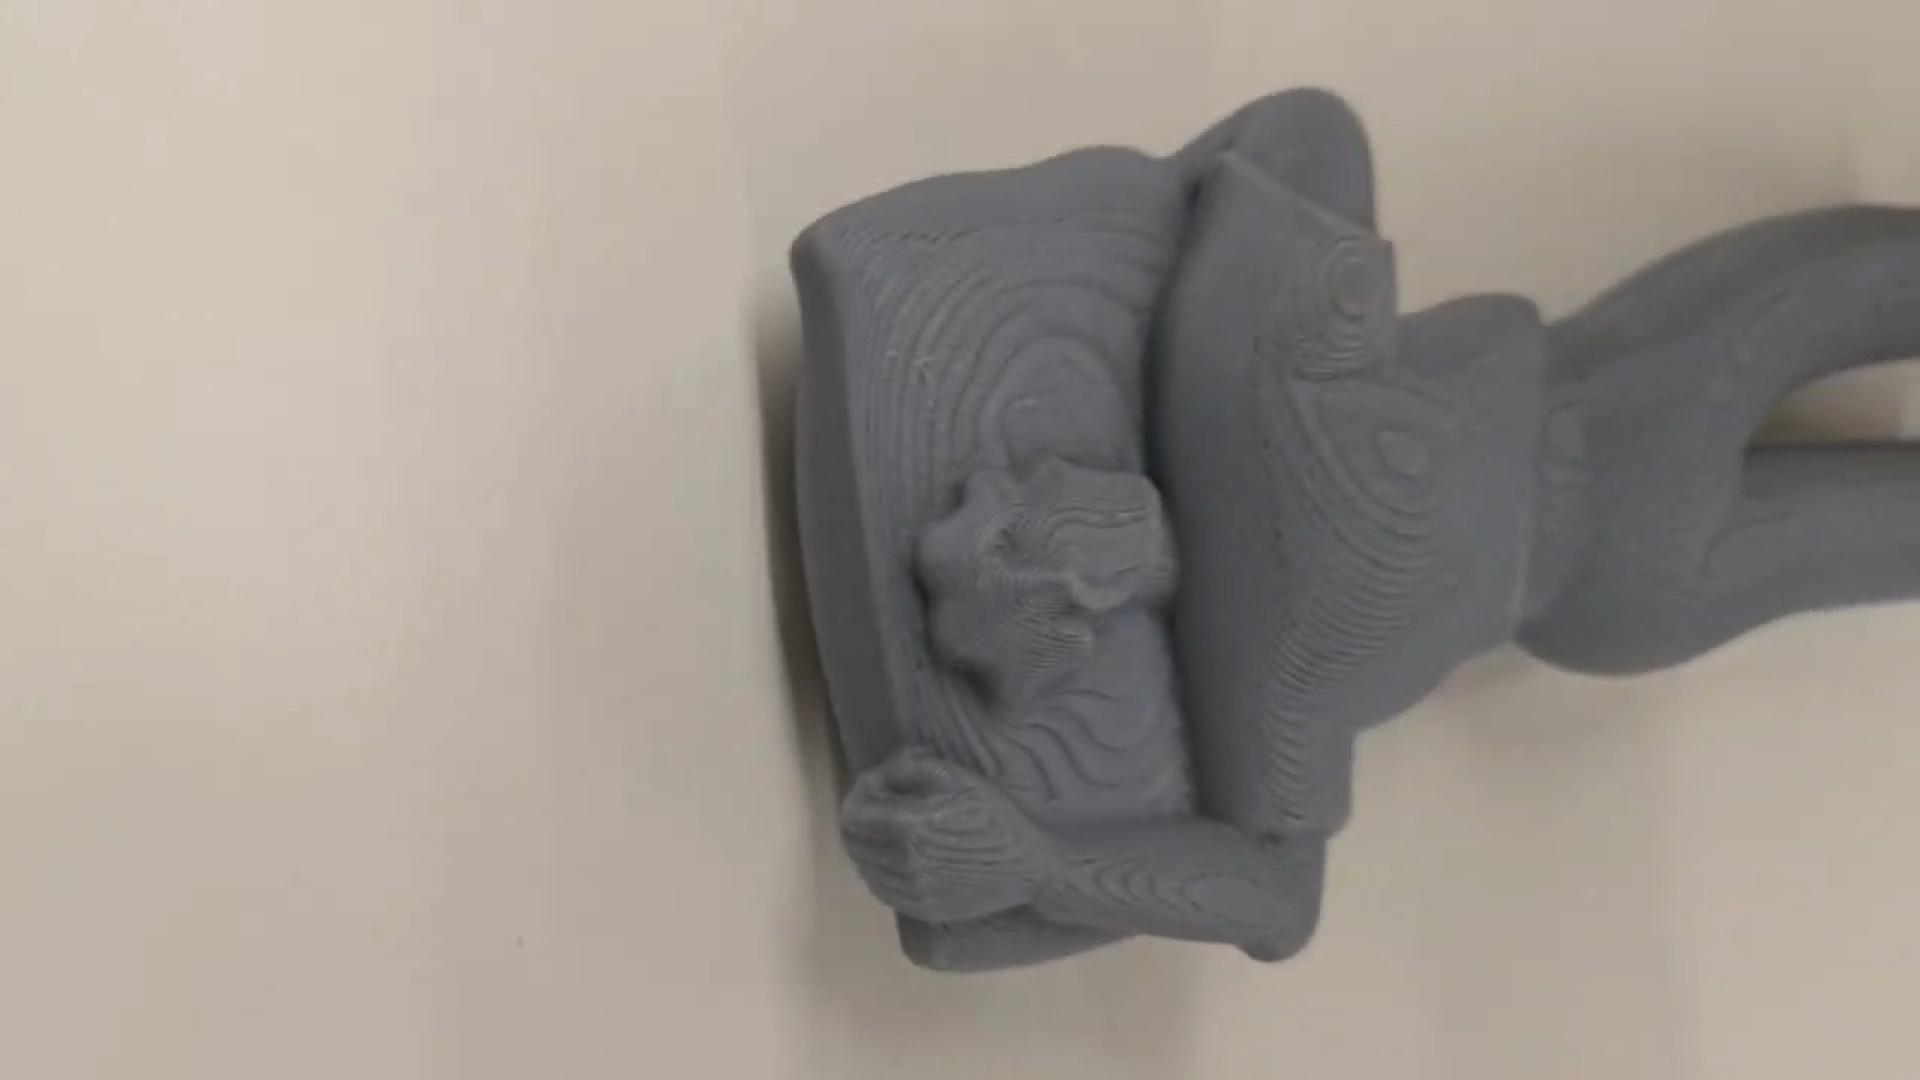Bad-style: (783, 71, 1920, 988)
